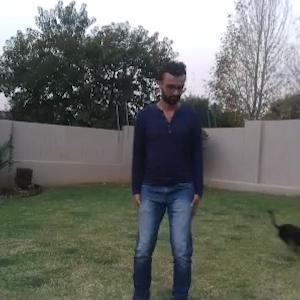follow: (130, 57, 207, 299)
